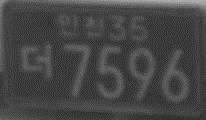3: (108, 14, 125, 40)
5: (96, 45, 125, 100), (128, 14, 148, 42)
6: (161, 48, 190, 102)
7: (62, 44, 91, 97)
9: (129, 47, 155, 101)
더: (19, 42, 53, 78)
인천_O: (54, 12, 105, 41)
